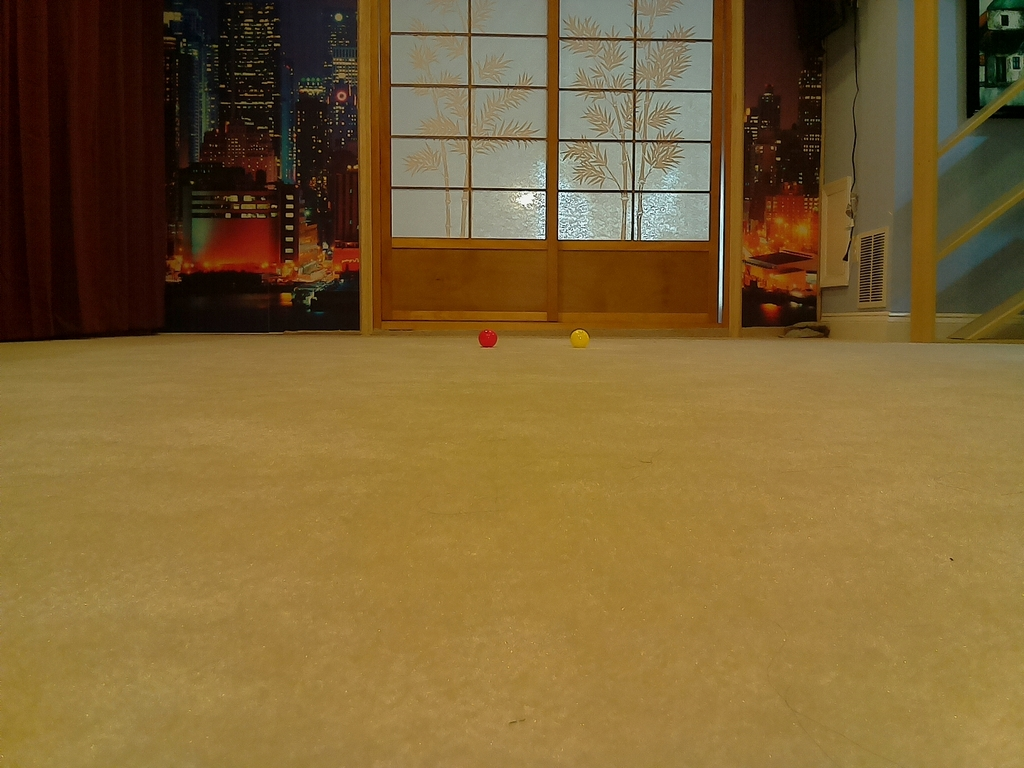ball: (481, 330, 498, 346)
